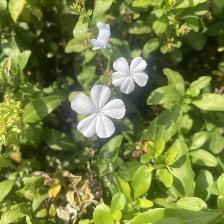chitrak: (72, 85, 129, 141), (111, 54, 150, 94)
